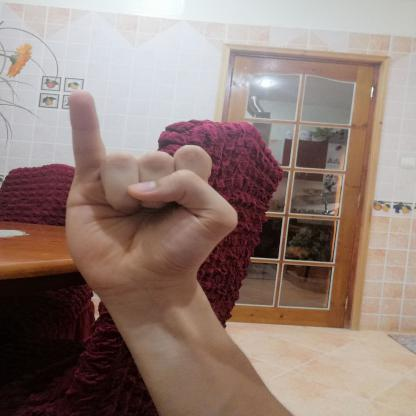MEEM: (37, 80, 256, 308)
